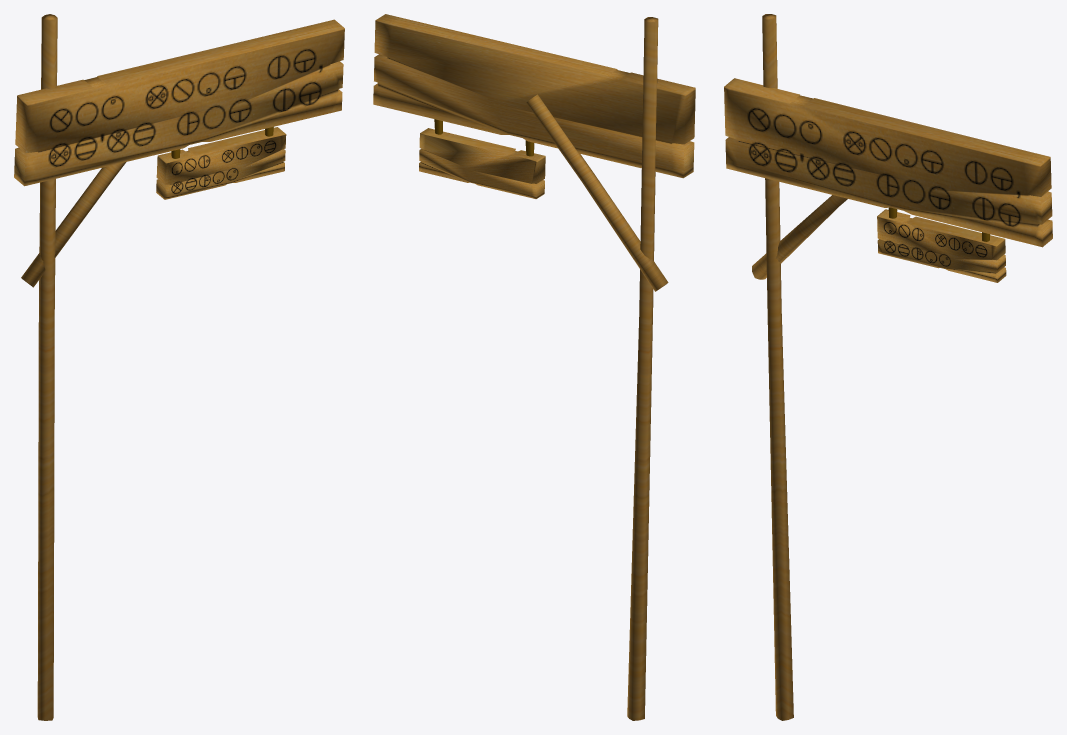
File: Ga-KoroShopSign.fbx
3 renders of one model, left to right at view 1: azimuth 30°, elevation 25°; view 2: azimuth 150°, elevation 25°; view 3: azimuth 330°, elevation 25°, orthographic. The views are drawn at different scales.
Visible parts, largest first — view 1: Cube_386, Cube_385, Cube_387, Cube_388; view 2: Cube_386, Cube_385, Cube_387, Cube_388; view 3: Cube_386, Cube_385, Cube_387, Cube_388.
Part boxes in pixels (box(x1,y1,x2,y2)): Cube_386: box(14, 19, 344, 186); Cube_385: box(37, 14, 57, 720); Cube_387: box(156, 127, 286, 199); Cube_388: box(21, 162, 126, 287); Cube_386: box(373, 14, 695, 178); Cube_385: box(627, 17, 658, 720); Cube_387: box(419, 128, 545, 198); Cube_388: box(526, 94, 668, 291); Cube_386: box(724, 78, 1052, 247); Cube_385: box(762, 14, 793, 720); Cube_387: box(877, 209, 1006, 282); Cube_388: box(752, 195, 847, 279).
Bounding box in the file's own units: 0.4189 × 0.8925 × 0.0595.
